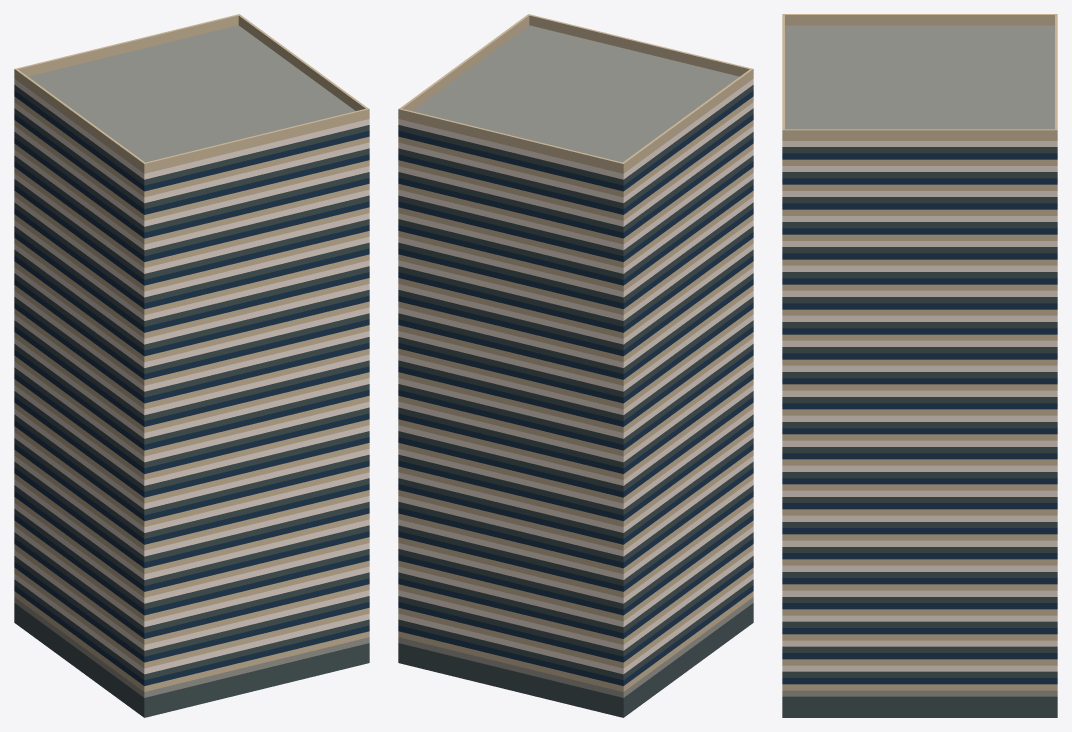
Rendered from far.fbx.
3 views of the same model, side by side, from view 1: azimuth 30°, elevation 25°; view 2: azimuth 150°, elevation 25°; view 3: azimuth 270°, elevation 25° (orthographic). The views are drawn at different scales.
Parts seen in each view (by area): view 1: a2007/0/far; view 2: a2007/0/far; view 3: a2007/0/far.
Part boxes in pixels (x1=…): a2007/0/far: x1=14, y1=14, x2=369, y2=717; a2007/0/far: x1=398, y1=14, x2=753, y2=717; a2007/0/far: x1=782, y1=14, x2=1057, y2=717.
Bounding box in the file's own units: 30 × 70.55 × 30.
